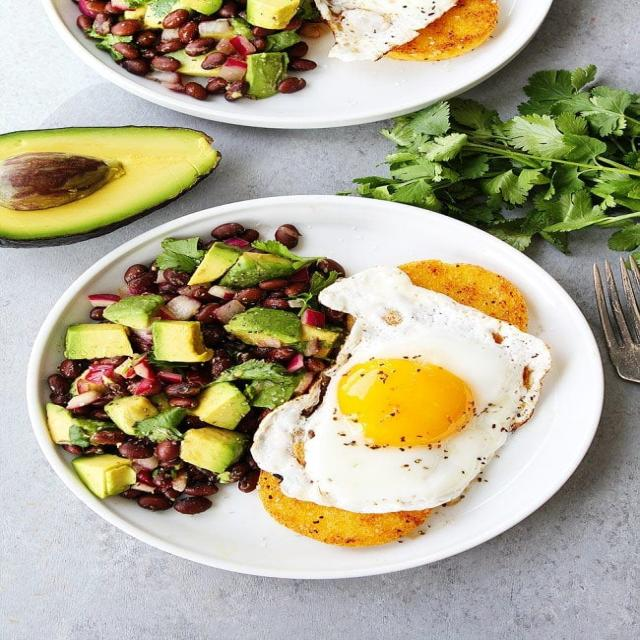Bacon: (253, 266, 551, 513)
